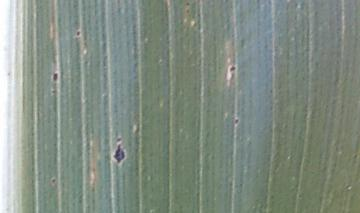tarspot: (113, 144, 126, 164), (52, 70, 58, 81), (115, 135, 123, 143), (74, 28, 81, 37), (50, 87, 57, 95), (233, 116, 239, 125), (50, 176, 56, 184), (228, 66, 237, 71), (185, 8, 191, 15), (185, 1, 190, 7)
